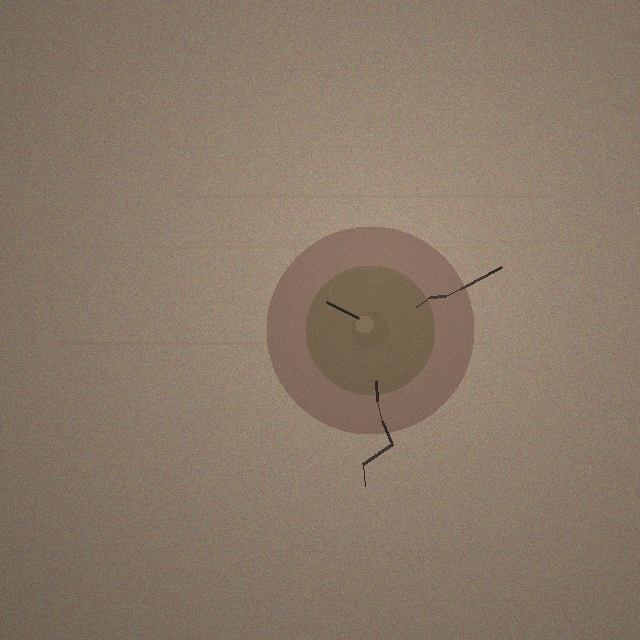crack: (266, 226, 474, 434)
